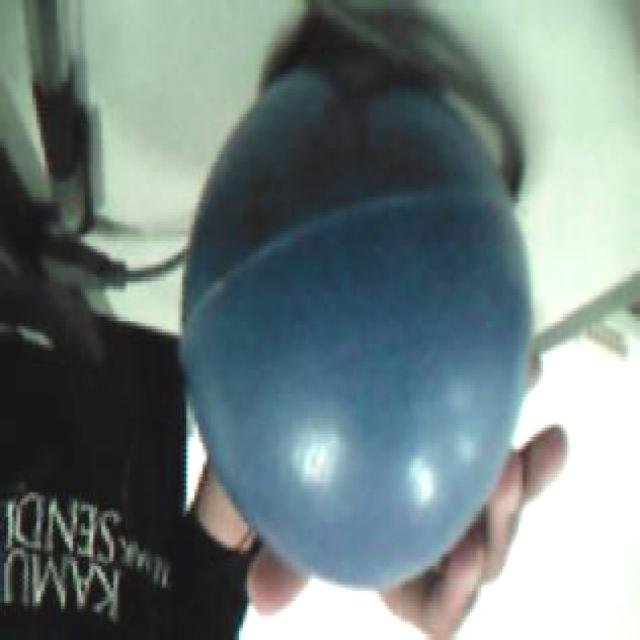BallPurple: (181, 68, 532, 587)
